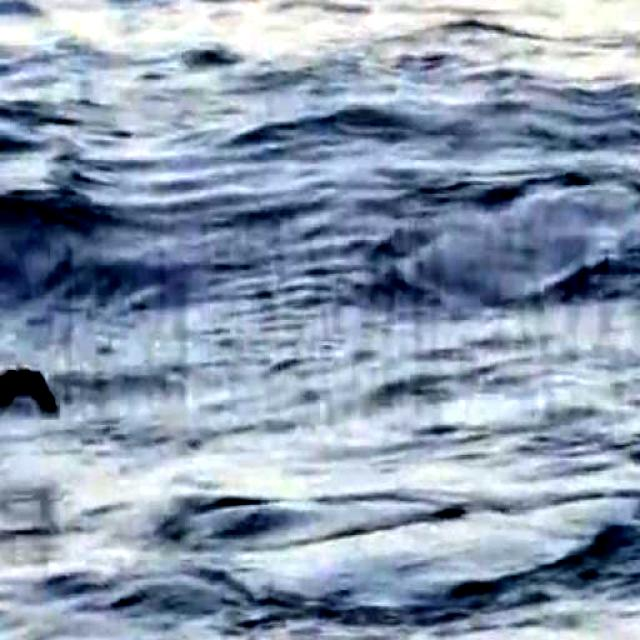airplane: (0, 341, 62, 471)
